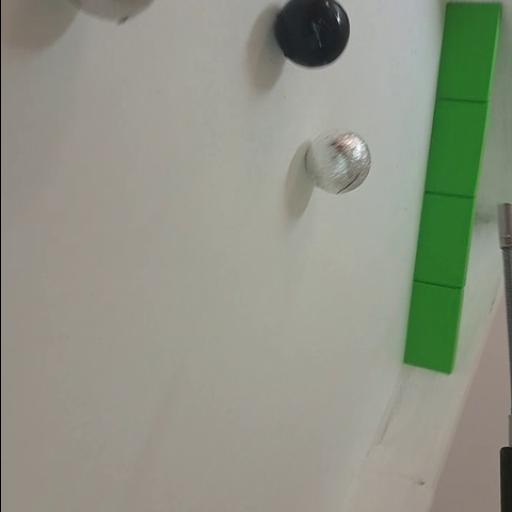alive: (306, 129, 371, 196), (55, 2, 161, 32)
dead: (274, 0, 351, 69)
